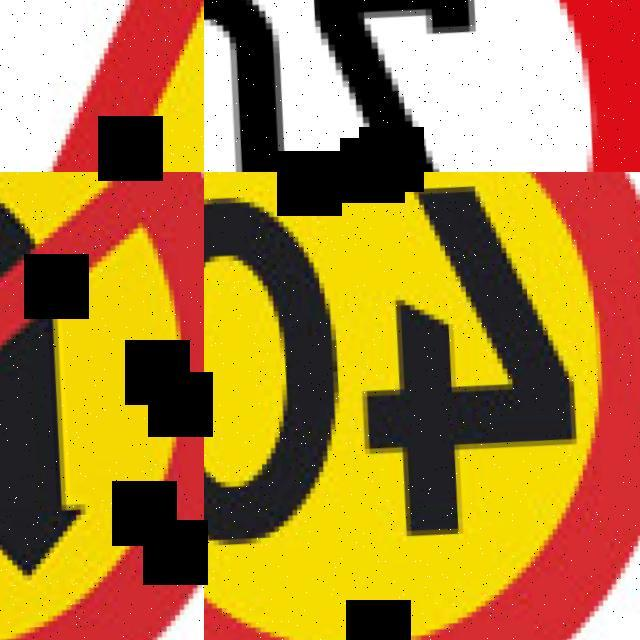136: (0, 0, 204, 172)
55: (204, 172, 640, 640)
no u turn: (0, 172, 204, 640)
speed limit-70: (204, 0, 640, 172)
